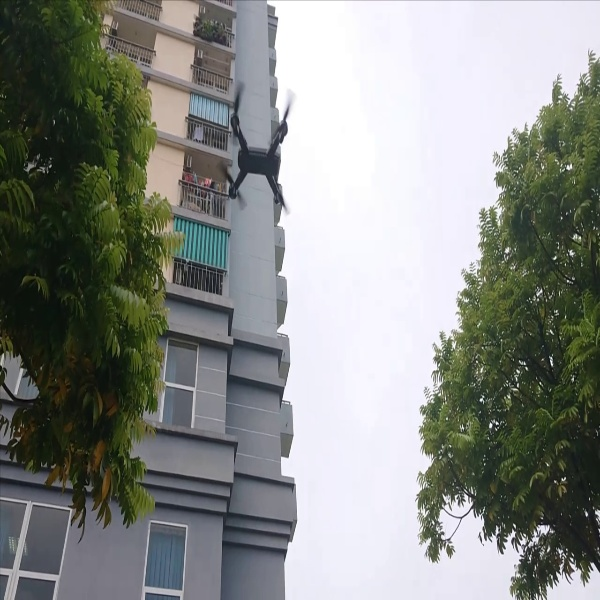drone: (223, 79, 298, 222)
